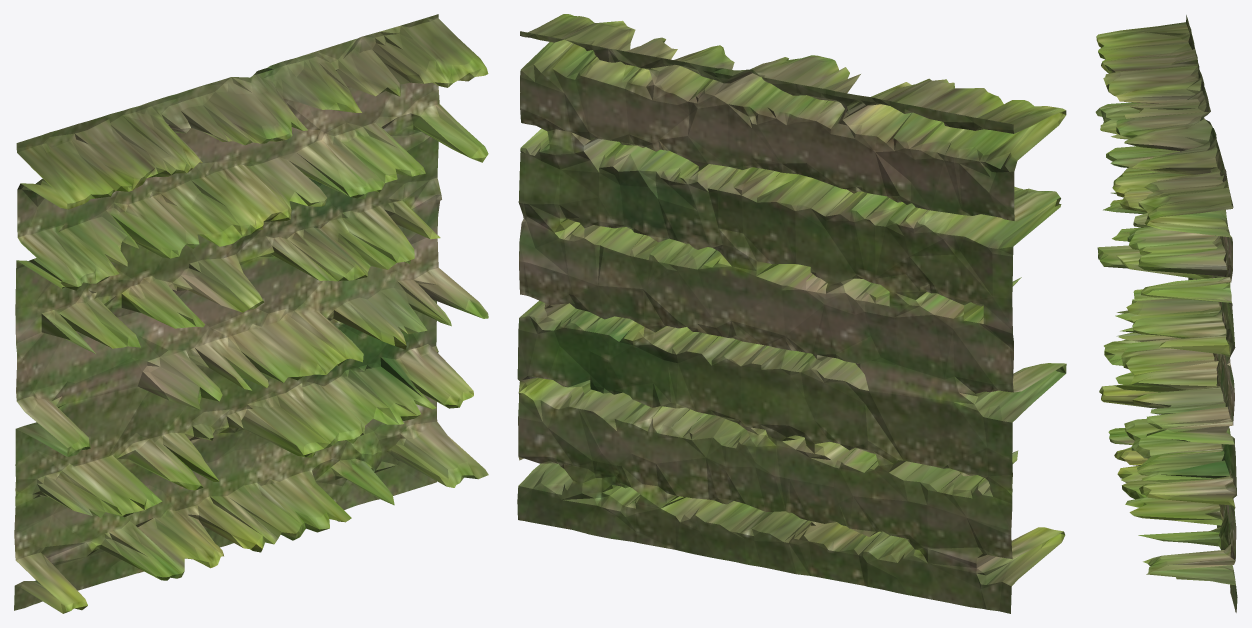
Rendered from map_110_70.obj.
The picture shows the model from 3 angles, left to right: view 1: azimuth 30°, elevation 25°; view 2: azimuth 150°, elevation 25°; view 3: azimuth 270°, elevation 25°; orthographic projection. The views are drawn at different scales.
Parts seen in each view (by area): view 1: grp1; view 2: grp1; view 3: grp1.
Part boxes in pixels (left/top/right/bottom): grp1: left=14, top=14, right=488, bottom=613; grp1: left=517, top=14, right=1066, bottom=613; grp1: left=1095, top=15, right=1237, bottom=612.
Bounding box in the file's own units: 10 × 10 × 3.15.
Materials: 1 (1 with a texture image).
